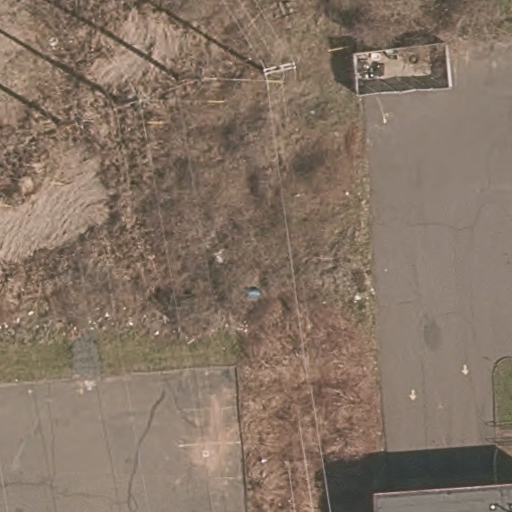DT: (52, 99, 109, 139), (110, 79, 165, 118), (171, 61, 223, 99), (249, 53, 306, 85)
